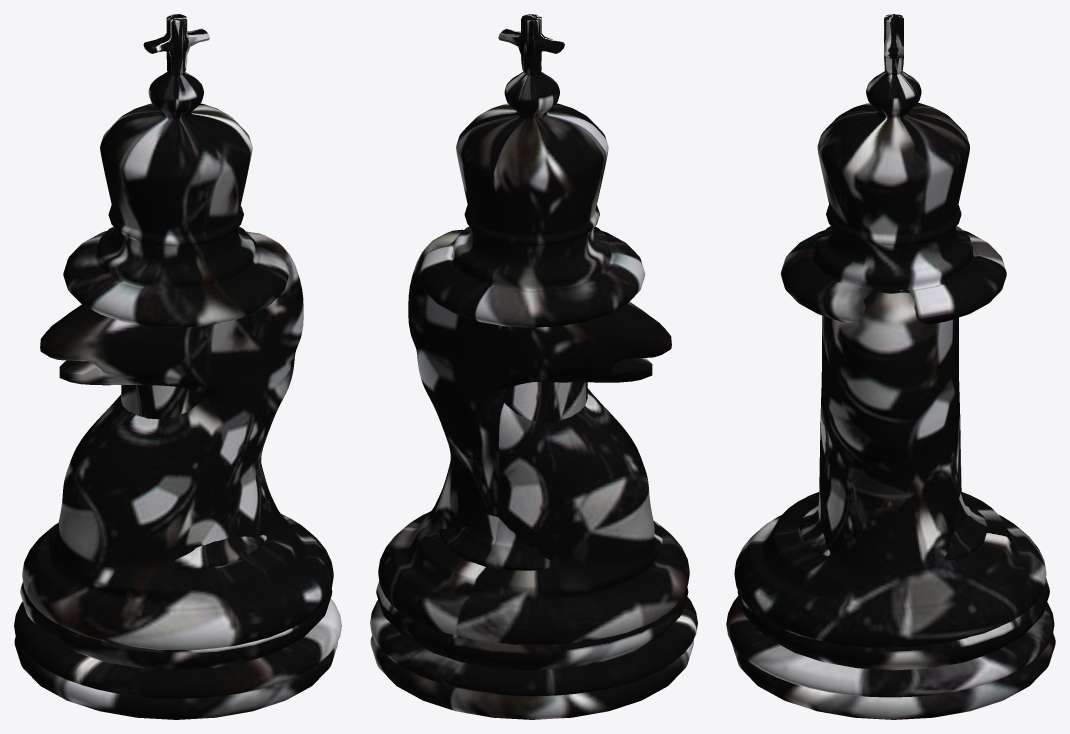
File: King.obj
3 views of the same model, side by side, from view 1: azimuth 30°, elevation 25°; view 2: azimuth 150°, elevation 25°; view 3: azimuth 270°, elevation 25° (orthographic).
Parts seen in each view (by area): view 1: mesh002, mesh01; view 2: mesh002, mesh01; view 3: mesh002, mesh01.
Part boxes in pixels (x1,y1,x2,y2): mesh002: [14, 232, 341, 698]; mesh01: [14, 14, 337, 719]; mesh002: [370, 229, 697, 696]; mesh01: [370, 14, 693, 719]; mesh002: [726, 290, 1054, 697]; mesh01: [732, 14, 1055, 719].
Size of the model in its own units: 7.95 by 17.15 by 7.98.
